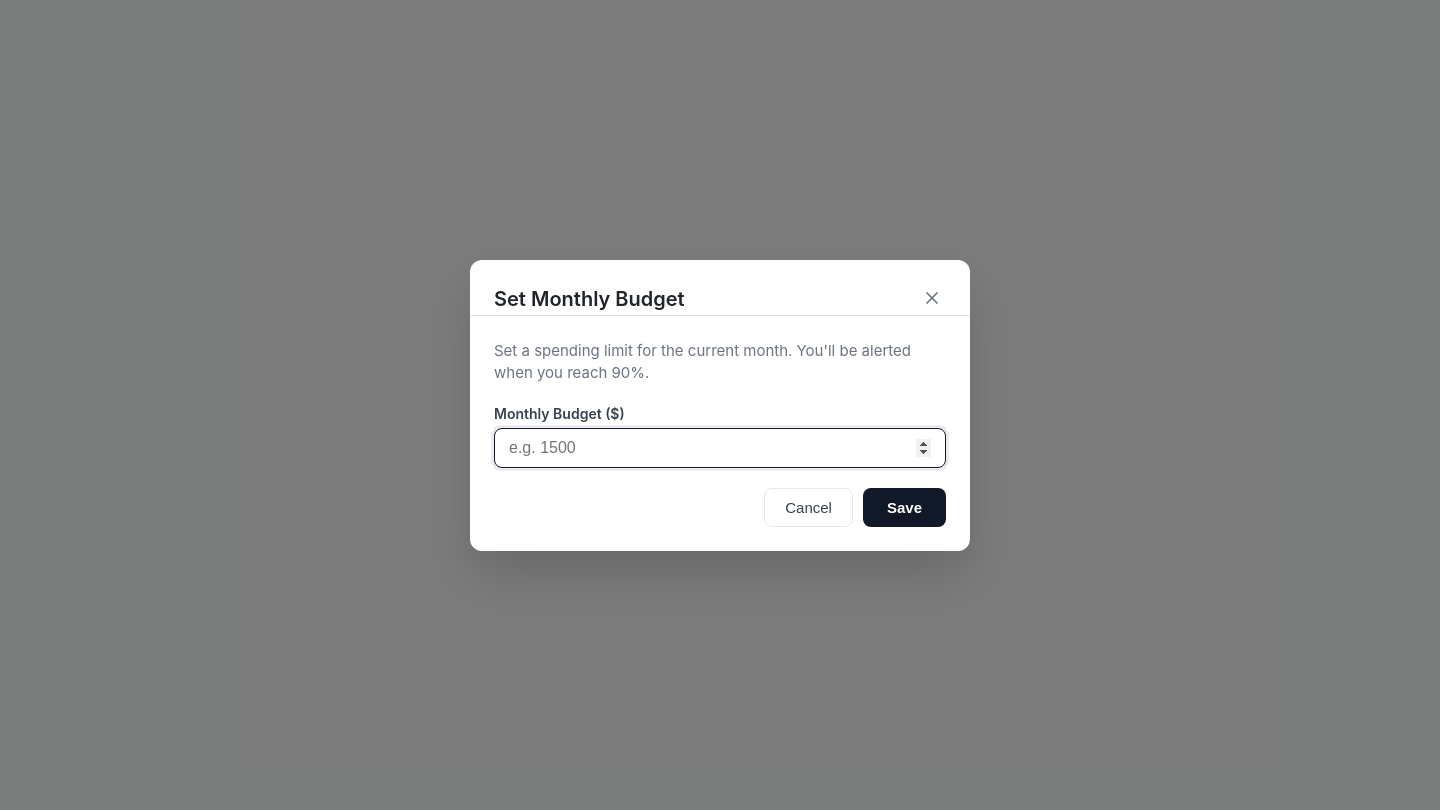
Test case: SetBudgetModal › shows an error for zero
In the number field labelled "Monthly Budget ($)": (720, 448) [494,428,946,468], type "0"
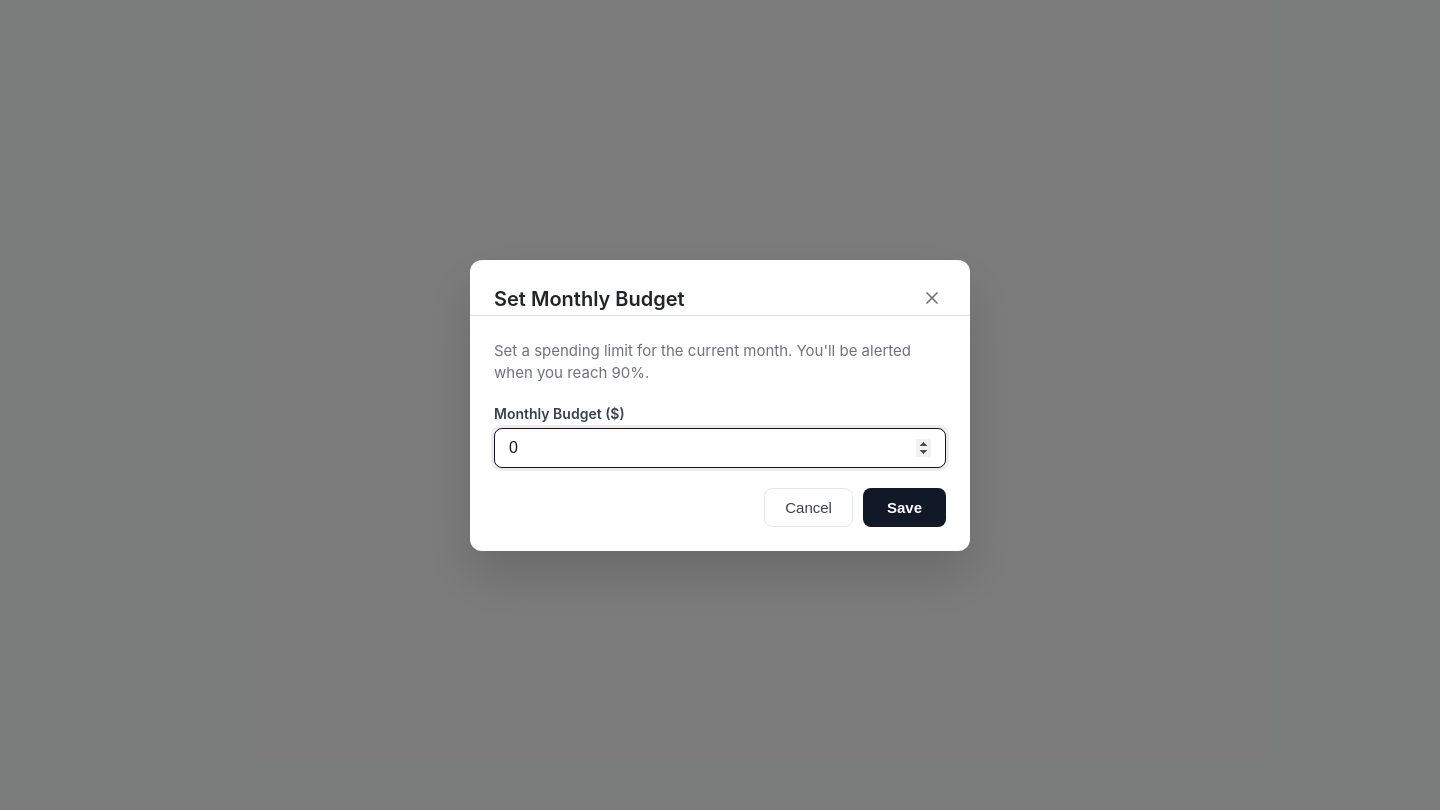
Click the button "Save": (904, 507) [863,488,946,526]
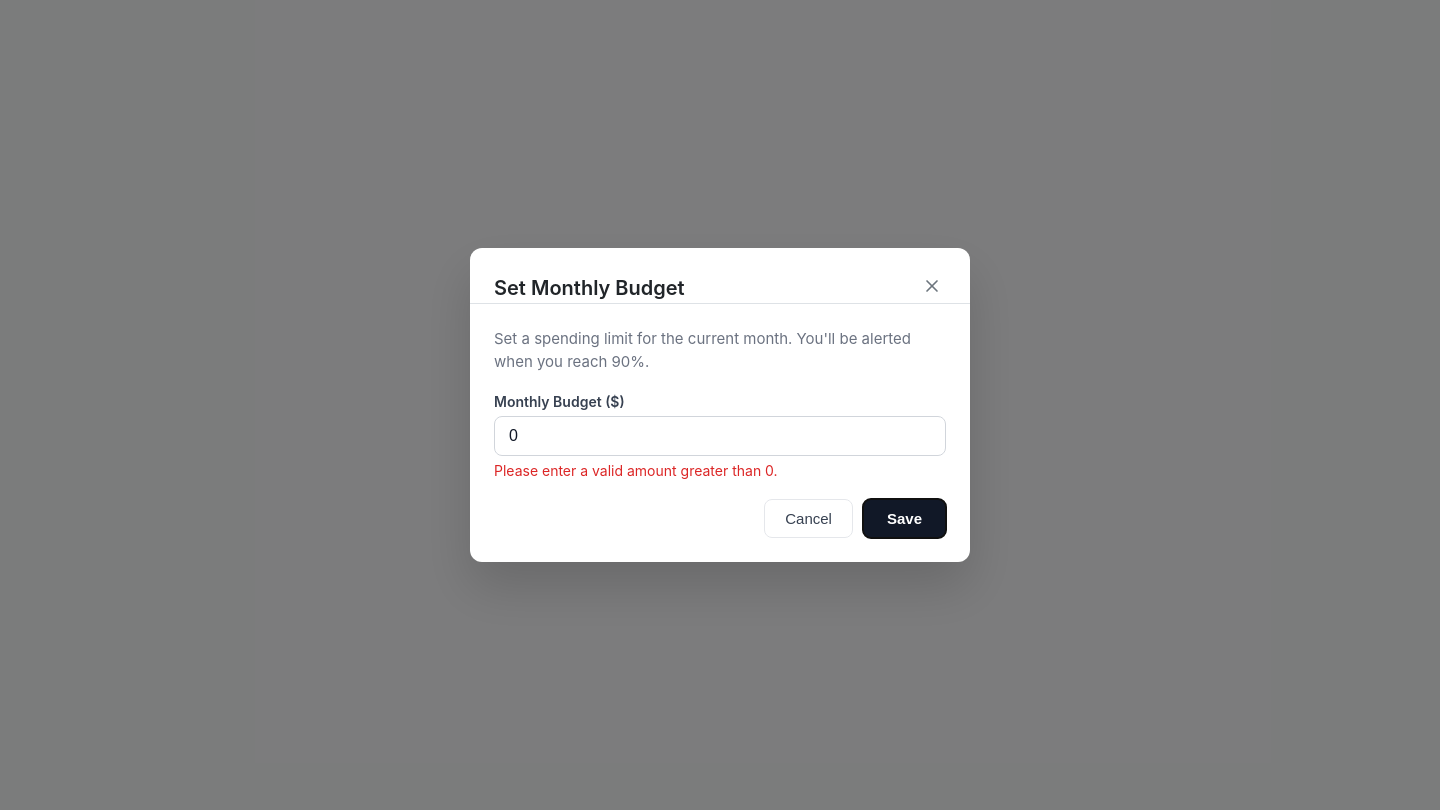
Result: the text "Please enter a valid amount greater than 0." is shown at [494,462,778,479]
